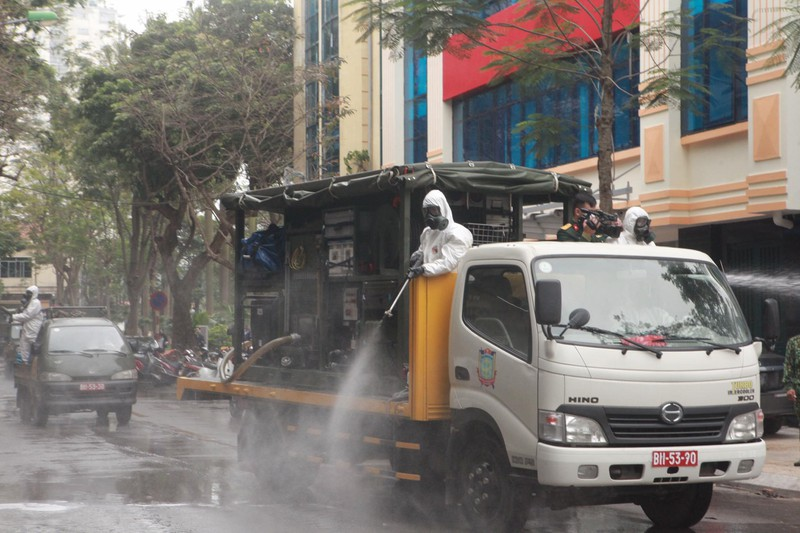plate: (652, 448, 699, 467), (80, 379, 108, 396)
